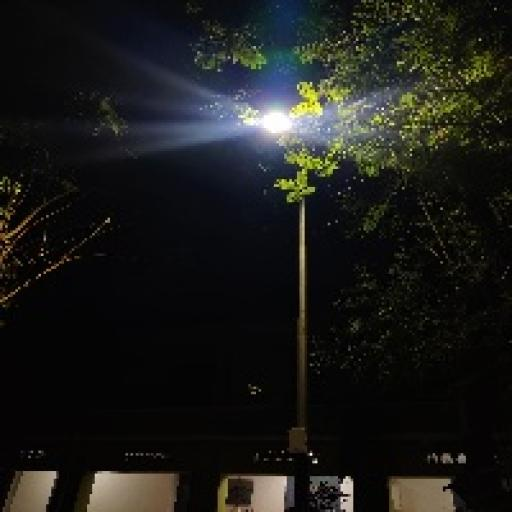Working: (255, 109, 296, 144)
